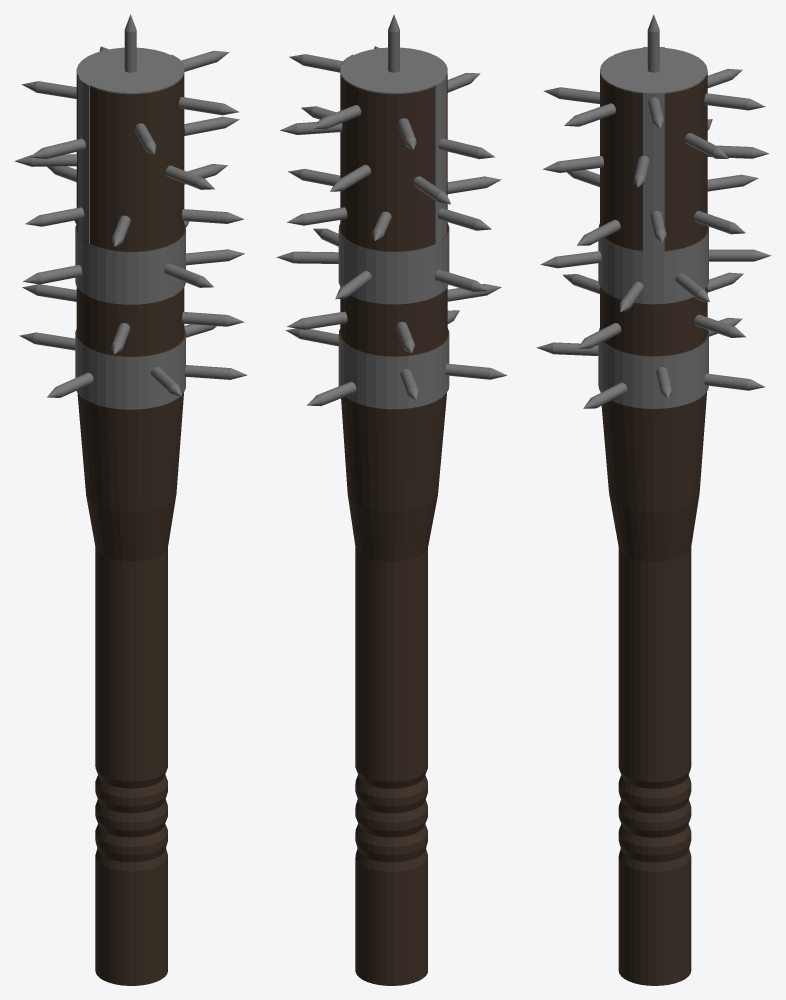
Rendered from club.fbx.
3 renders of one model, left to right at view 1: azimuth 30°, elevation 25°; view 2: azimuth 150°, elevation 25°; view 3: azimuth 270°, elevation 25°, orthographic.
Visible parts, largest first — view 1: Cylinder; view 2: Cylinder; view 3: Cylinder.
Boxes of the visible parts, box(x1,y1,x2,y2) form: Cylinder: box(14, 14, 247, 985); Cylinder: box(276, 14, 507, 985); Cylinder: box(536, 14, 771, 985).
Bounding box in the file's own units: 120 × 535 × 120.
